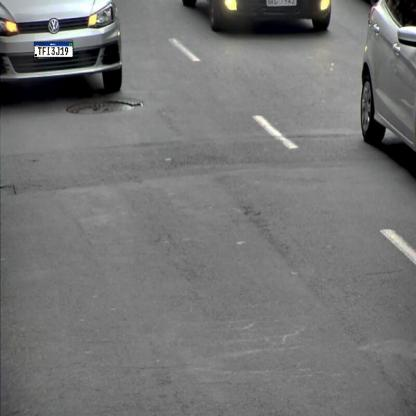PlacaM: (34, 42, 73, 58)
